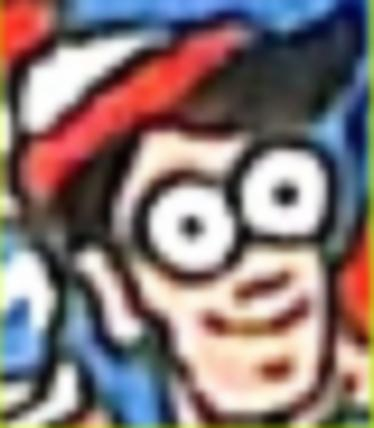waldos: (11, 3, 365, 423)
